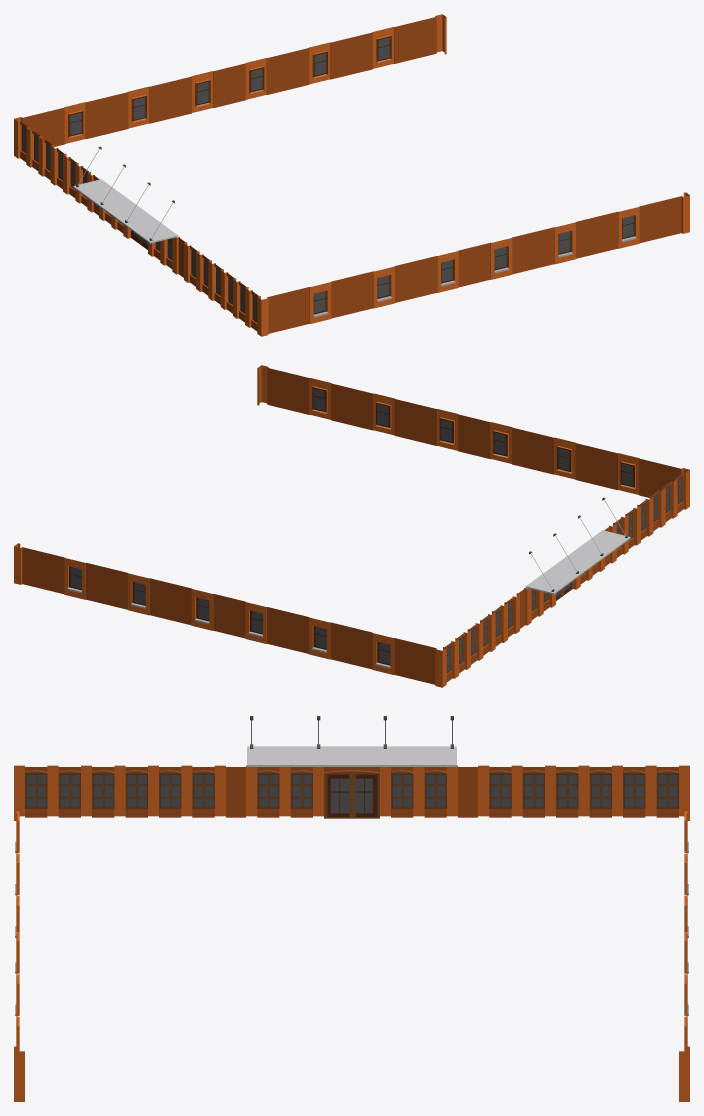
Rendered from BuildingBig1_1.fbx.
The picture shows the model from 3 angles, top to bottom: view 1: azimuth 30°, elevation 25°; view 2: azimuth 150°, elevation 25°; view 3: azimuth 270°, elevation 25°; orthographic projection. The views are drawn at different scales.
Parts seen in each view (by area): view 1: BuildingBig1_1; view 2: BuildingBig1_1; view 3: BuildingBig1_1.
Part boxes in pixels (x1,y1,x2,y2): BuildingBig1_1: [14, 14, 689, 336]; BuildingBig1_1: [14, 365, 689, 687]; BuildingBig1_1: [14, 716, 689, 1101].
Bounding box in the file's own units: 6430 × 978 × 6060.
